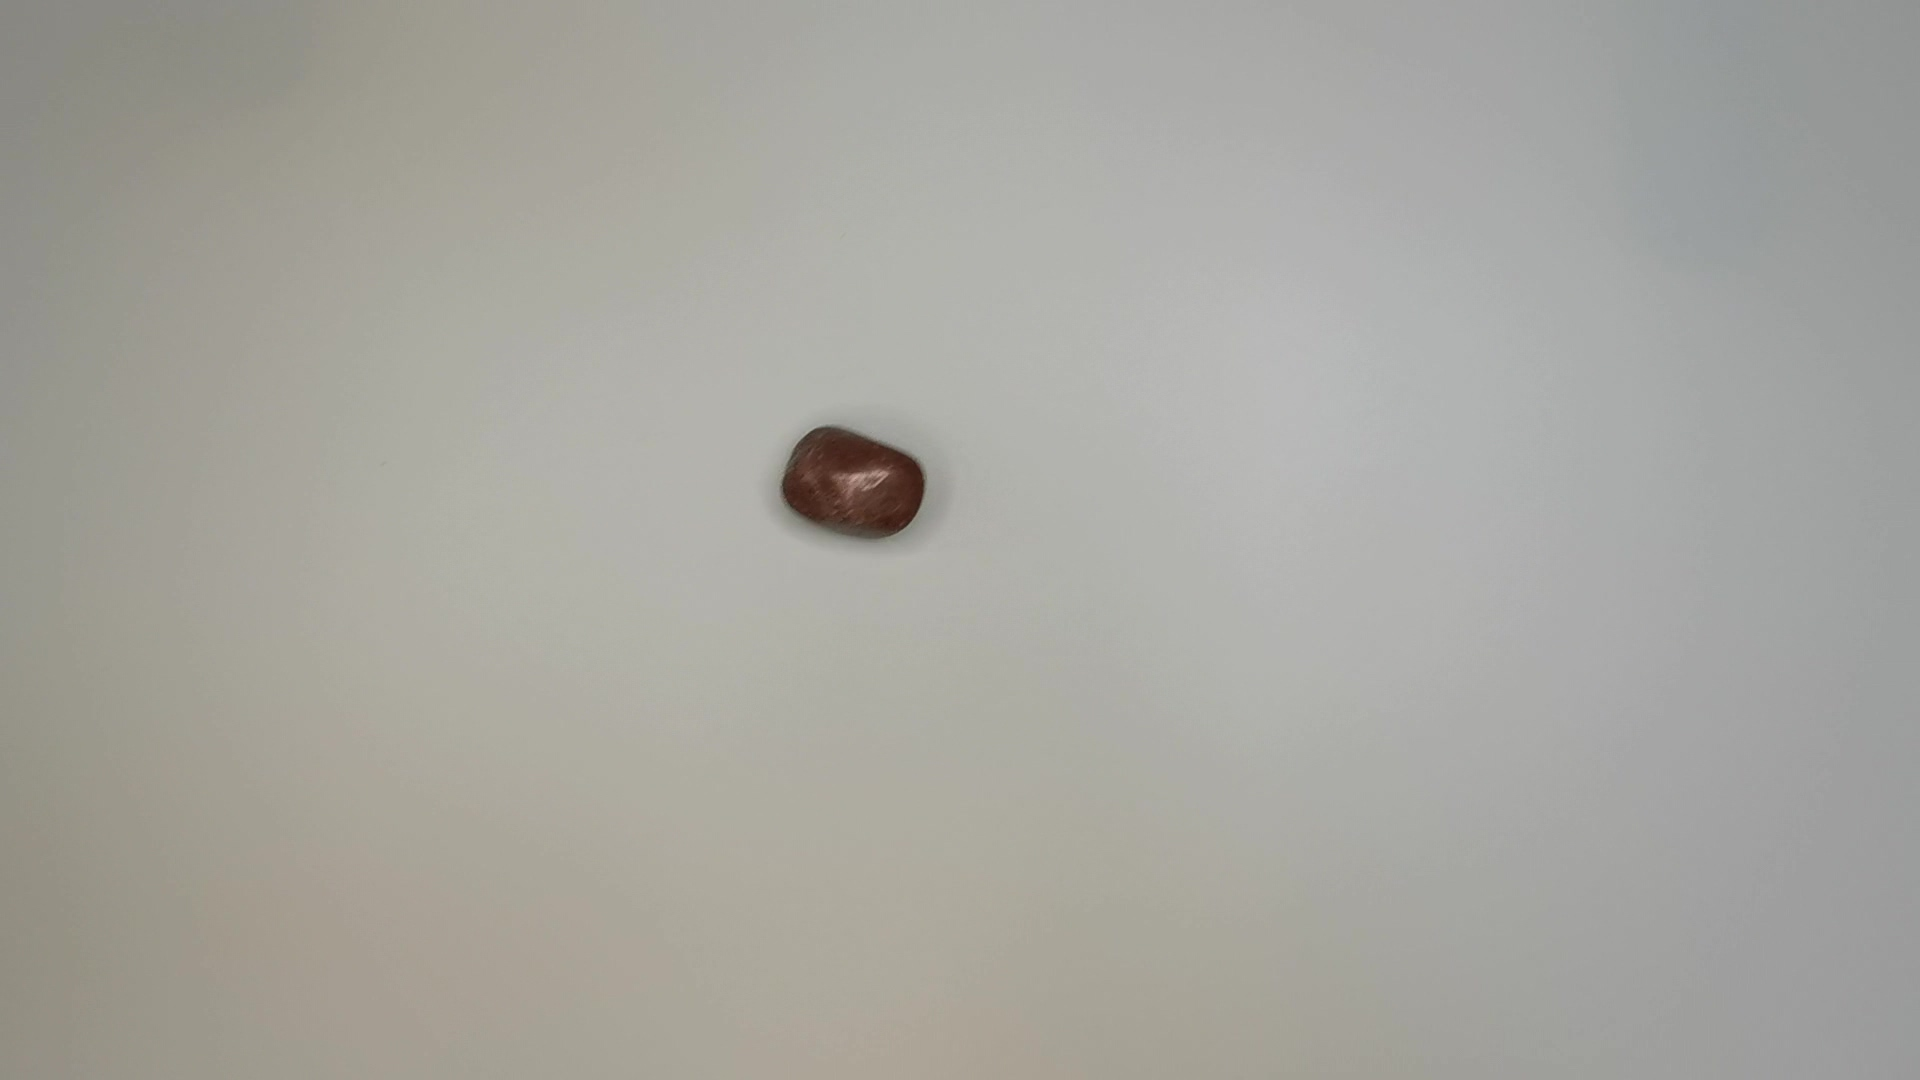ceramic: (781, 427, 936, 541)
